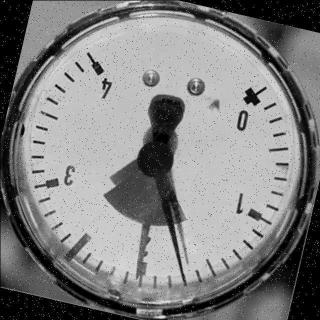gauge: (0, 0, 320, 320), (136, 138, 174, 180), (232, 78, 274, 112), (80, 54, 113, 85), (130, 266, 146, 286), (178, 274, 192, 290)
